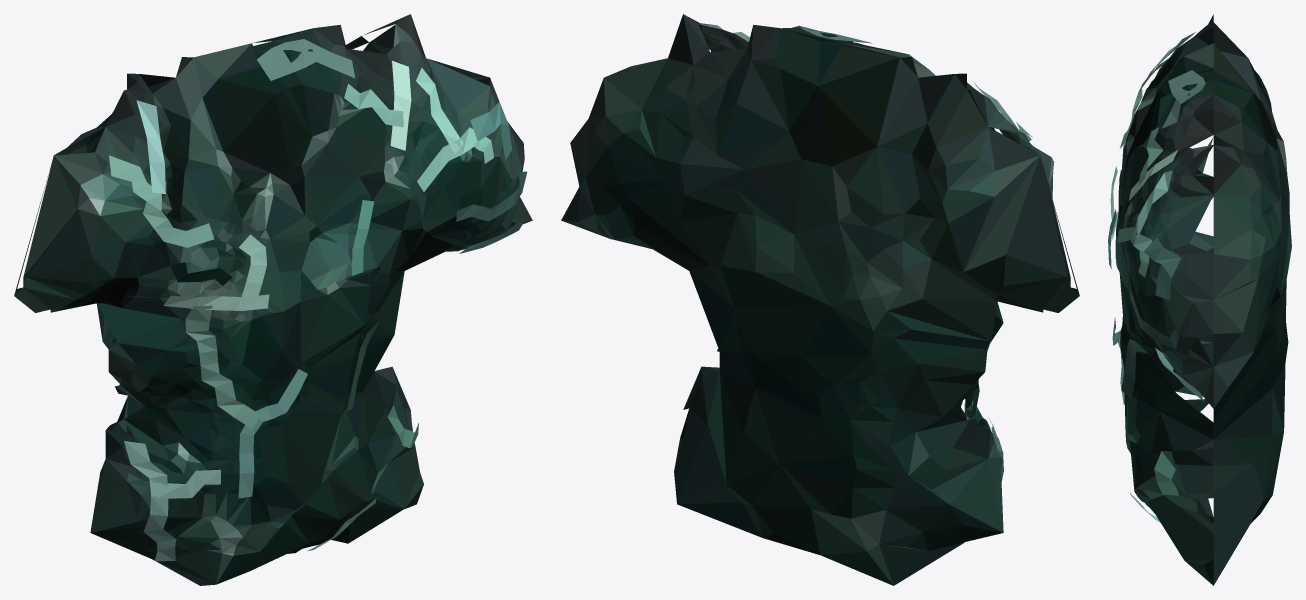
3 views of the same model, side by side, from view 1: azimuth 30°, elevation 25°; view 2: azimuth 150°, elevation 25°; view 3: azimuth 270°, elevation 25° (orthographic). The views are drawn at different scales.
Parts seen in each view (by area): view 1: object 2, detail; view 2: object 2, detail; view 3: object 2, detail.
Part boxes in pixels (left/top/right/bottom): object 2: left=14, top=14, right=532, bottom=585; detail: left=109, top=39, right=527, bottom=561; object 2: left=561, top=14, right=1079, bottom=585; detail: left=733, top=25, right=1032, bottom=481; object 2: left=1115, top=14, right=1291, bottom=585; detail: left=1108, top=32, right=1205, bottom=522.
Bounding box in the file's own units: 170 × 167 × 58.69.
